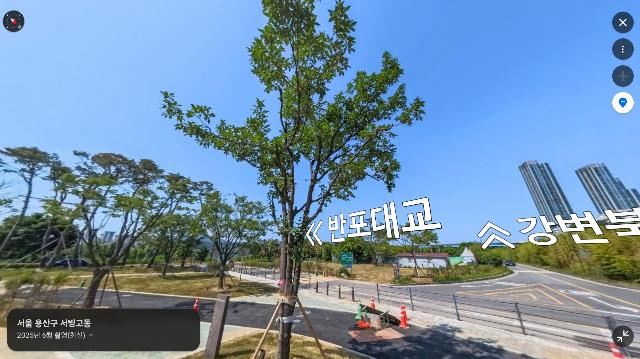other: (160, 0, 427, 359), (69, 149, 168, 310), (179, 186, 273, 290), (138, 169, 225, 278), (0, 145, 66, 270), (385, 221, 440, 277)
